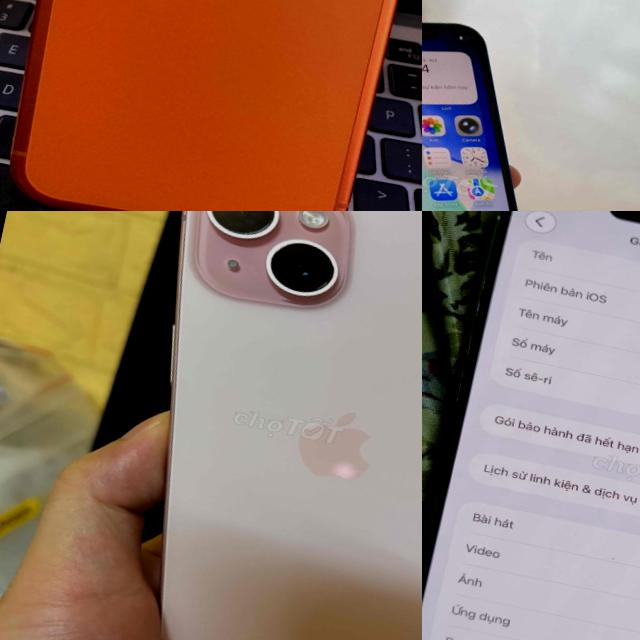gen_12_13: (422, 211, 640, 640), (422, 0, 588, 211)
gen_15: (72, 211, 422, 640)
gen_17: (0, 0, 422, 211)
